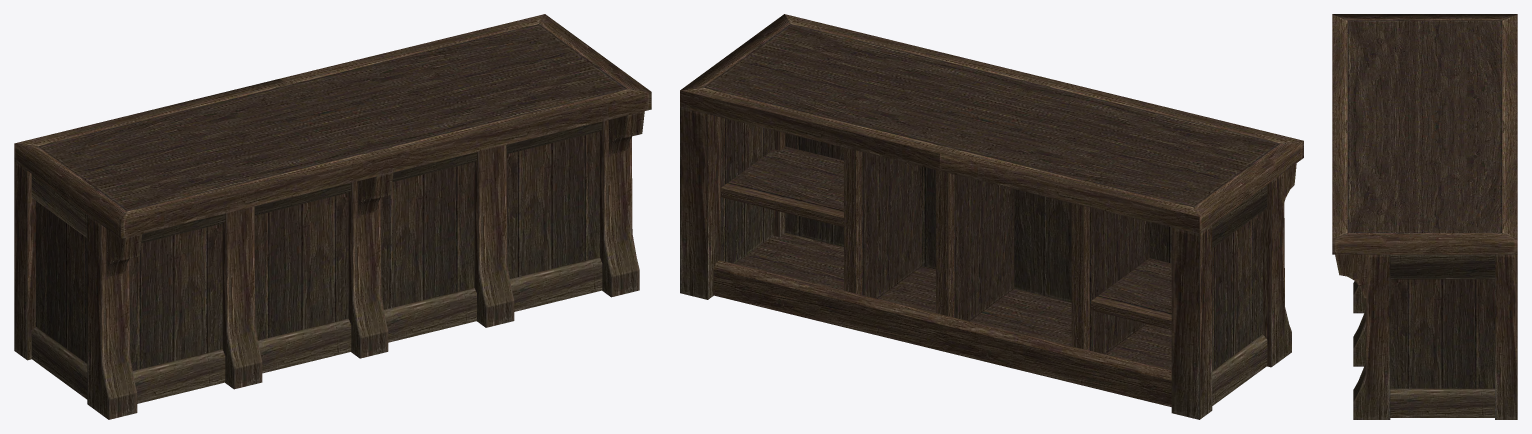
Rendered from eso_gu2_woodfurniture22-transformed.glb.
3 renders of one model, left to right at view 1: azimuth 30°, elevation 25°; view 2: azimuth 150°, elevation 25°; view 3: azimuth 270°, elevation 25°, orthographic. The views are drawn at different scales.
Visible parts, largest first — view 1: default; view 2: default; view 3: default.
Boxes of the visible parts, x1,y1,x2,y2 form: default: (14,14,651,419); default: (680,14,1303,419); default: (1332,14,1517,419).
Bounding box in the file's own units: 3.39 × 1.27 × 1.18.
1 material, 1 textured.
